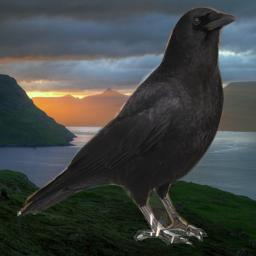Crow: (17, 2, 241, 247)
